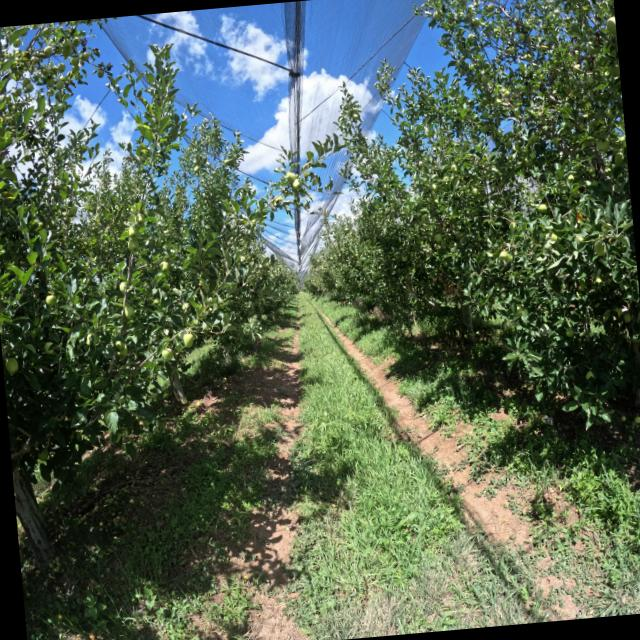-FireBlight-: (432, 265, 463, 297)
